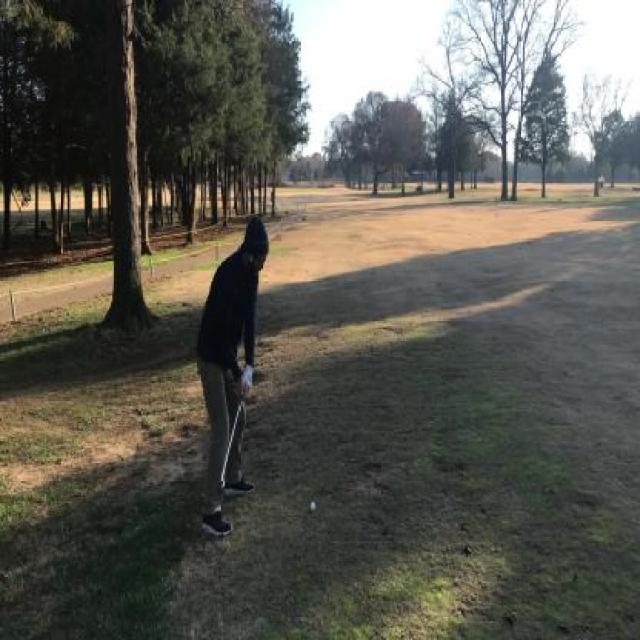club head: (217, 471, 226, 495)
